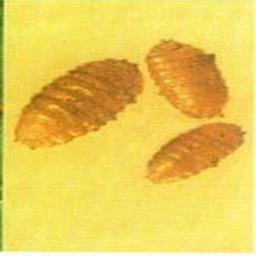liriomyza: (9, 56, 144, 151), (144, 38, 231, 119), (145, 121, 244, 185)
